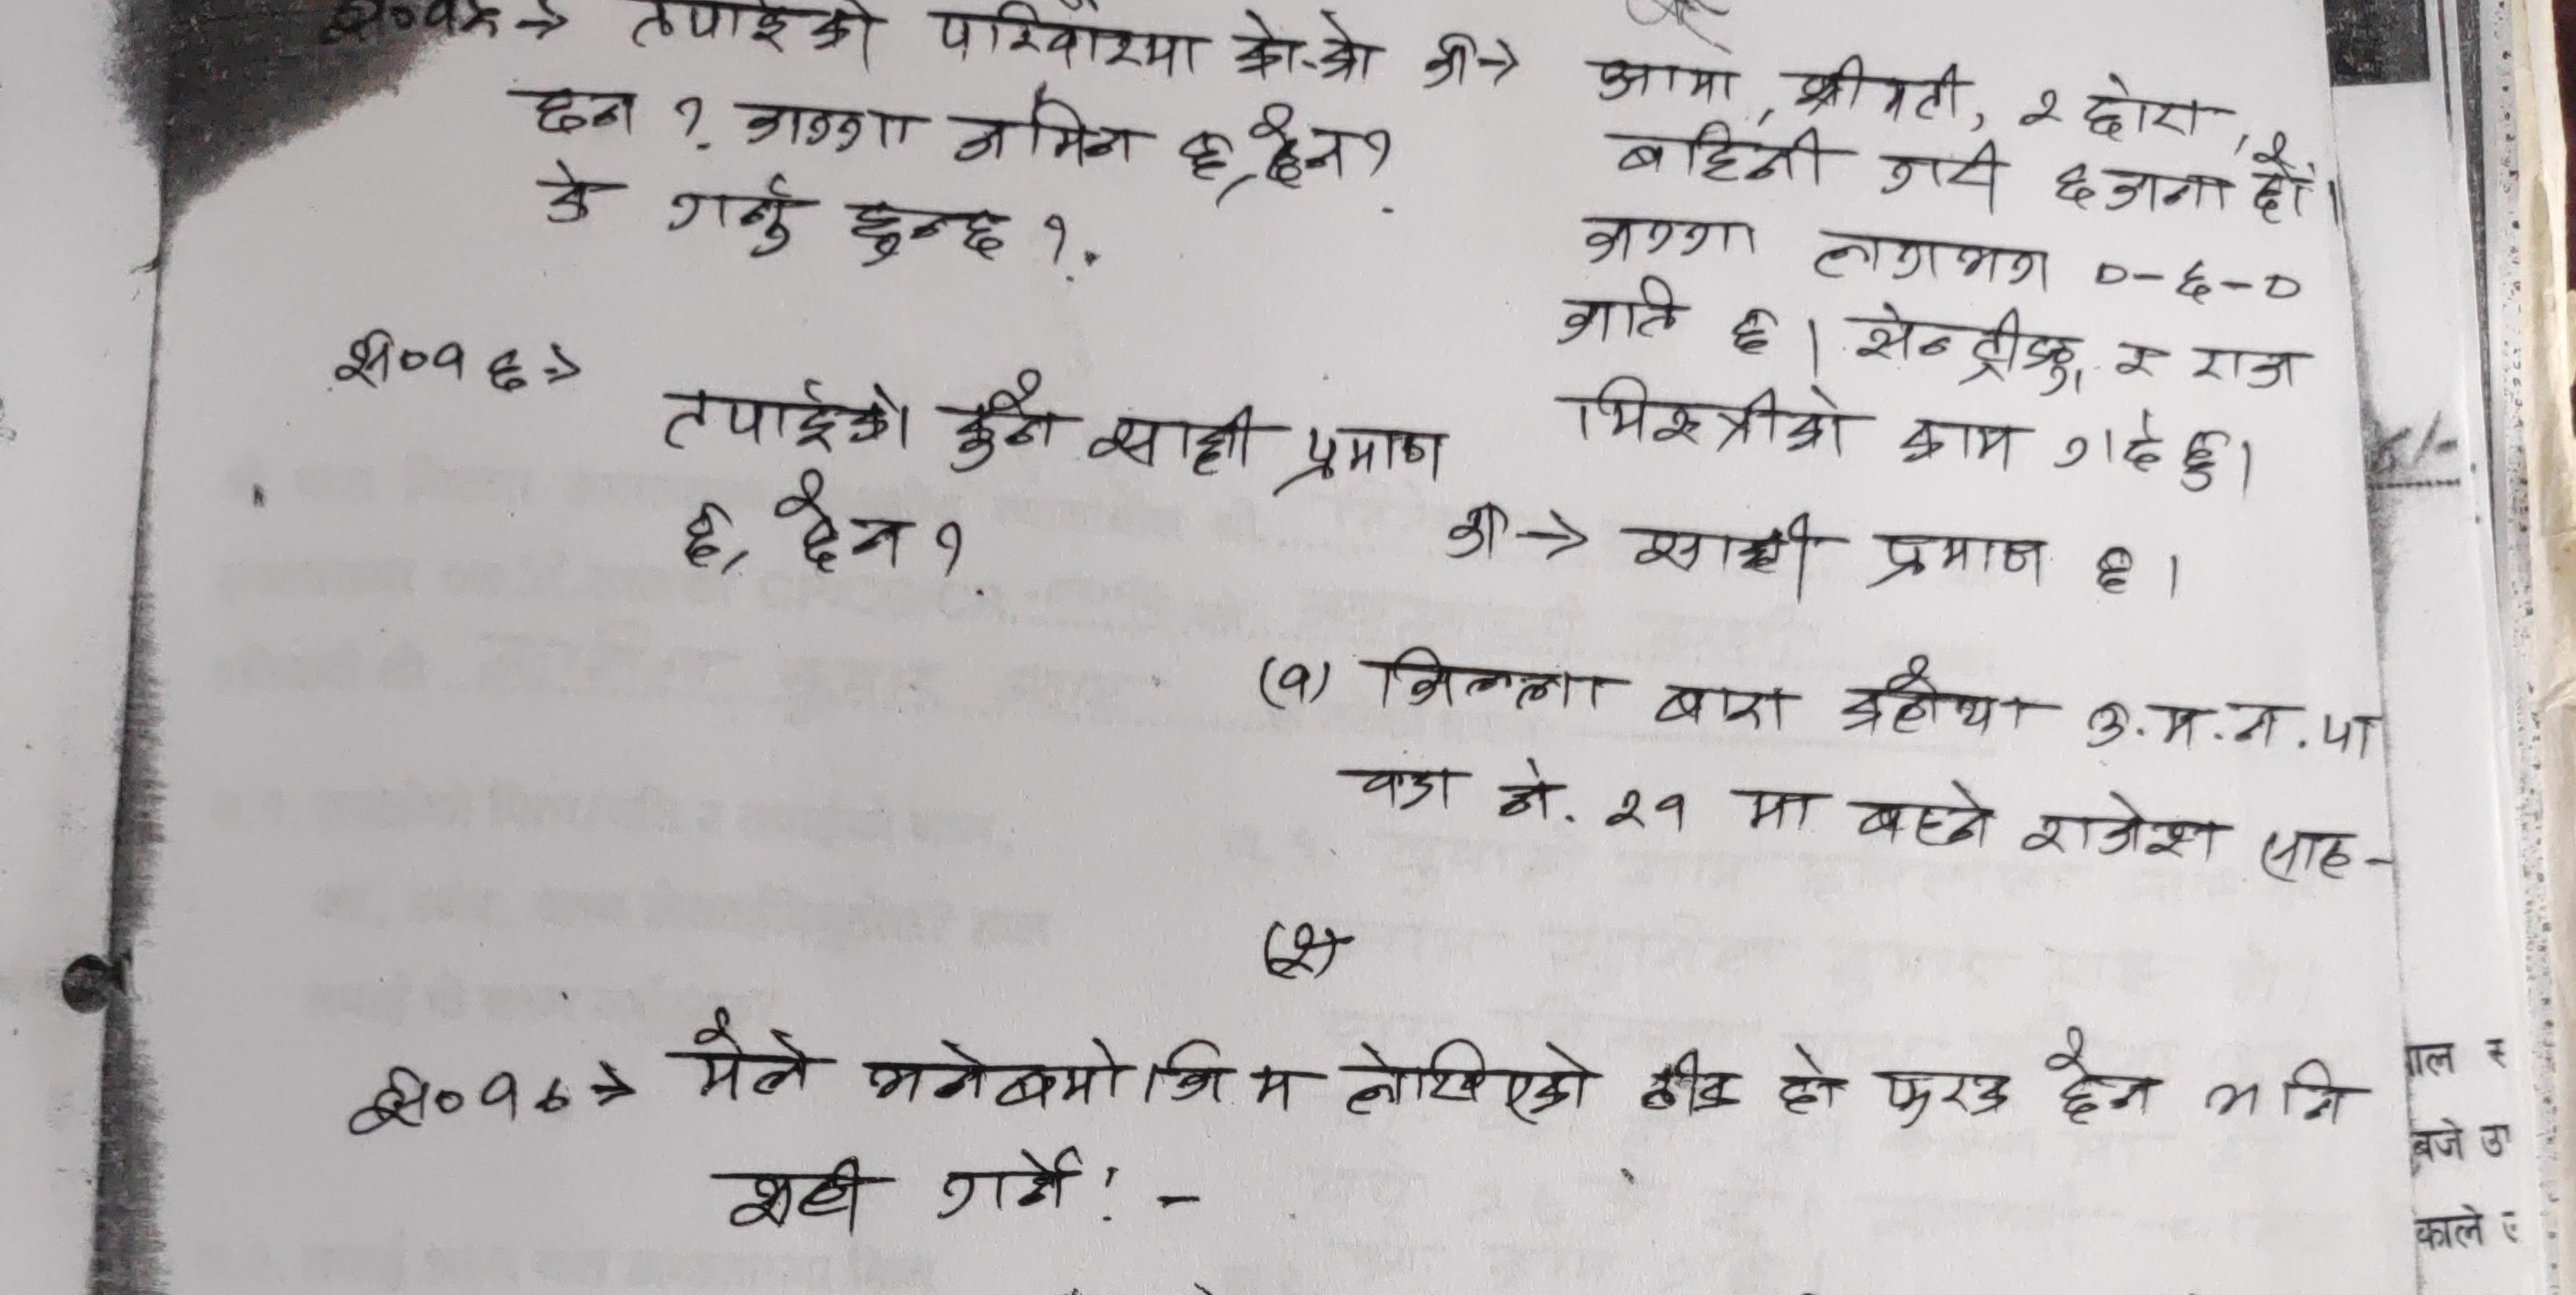text: (1556, 373, 1851, 466), (1849, 297, 2094, 401), (852, 1031, 1133, 1118), (651, 368, 915, 461), (915, 2, 1205, 83), (2076, 695, 2383, 768), (1342, 1037, 1598, 1123), (1625, 504, 1821, 610), (1367, 647, 1620, 728), (2016, 785, 2228, 874), (1805, 225, 2053, 301), (1608, 117, 1838, 197), (345, 1064, 573, 1143), (2053, 403, 2239, 496), (1138, 1032, 1314, 1130), (948, 101, 1144, 182), (1077, 395, 1262, 479), (771, 466, 912, 576), (1838, 661, 2029, 742), (330, 332, 538, 406), (2043, 145, 2234, 225), (707, 1153, 877, 1239), (946, 362, 1063, 482), (1780, 50, 1970, 122), (618, 5, 887, 56), (928, 1148, 1087, 1234), (680, 1009, 821, 1103), (661, 167, 804, 258), (847, 190, 1006, 269), (1222, 7, 1387, 83), (2041, 1031, 2163, 1131), (2206, 1049, 2353, 1131), (1286, 418, 1445, 494), (1866, 529, 2051, 593), (1575, 208, 1754, 274), (730, 89, 920, 150), (1854, 775, 1995, 857), (2081, 68, 2226, 144), (1873, 1054, 2010, 1131), (1544, 276, 1689, 347), (1656, 682, 1810, 748), (510, 78, 649, 149), (1899, 408, 2033, 477), (1879, 135, 2015, 203), (1248, 104, 1352, 190), (1589, 50, 1740, 106), (1636, 1041, 1745, 1118), (2254, 813, 2355, 889), (2188, 332, 2299, 400), (1602, 783, 1706, 852), (1491, 748, 1569, 839), (1418, 30, 1527, 94), (1769, 1036, 1848, 1123), (1351, 757, 1455, 818), (2249, 139, 2315, 225), (538, 150, 598, 243), (1735, 786, 1828, 836), (1265, 920, 1329, 984), (2016, 68, 2079, 134), (2091, 540, 2157, 601), (1450, 496, 1504, 568), (1181, 111, 1235, 180), (680, 494, 728, 570), (2104, 330, 2166, 385), (1722, 304, 1773, 357), (1275, 659, 1319, 705)
